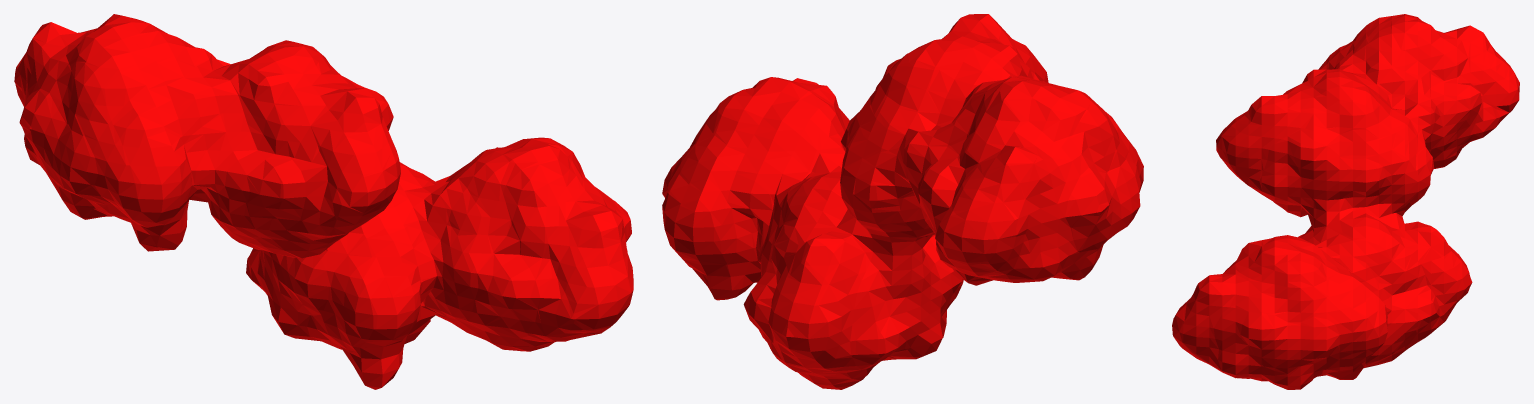
The model's file is hinT_coarse.dae.
3 views of the same model, side by side, from view 1: azimuth 30°, elevation 25°; view 2: azimuth 150°, elevation 25°; view 3: azimuth 270°, elevation 25° (orthographic). The views are drawn at different scales.
Visible parts, largest first — view 1: hinT; view 2: hinT; view 3: hinT.
Part boxes in pixels (bbox=[...]): hinT: bbox=[14, 14, 633, 389]; hinT: bbox=[662, 14, 1143, 389]; hinT: bbox=[1172, 14, 1519, 389].
Size of the model in its own units: 119 by 82.1 by 96.71.
